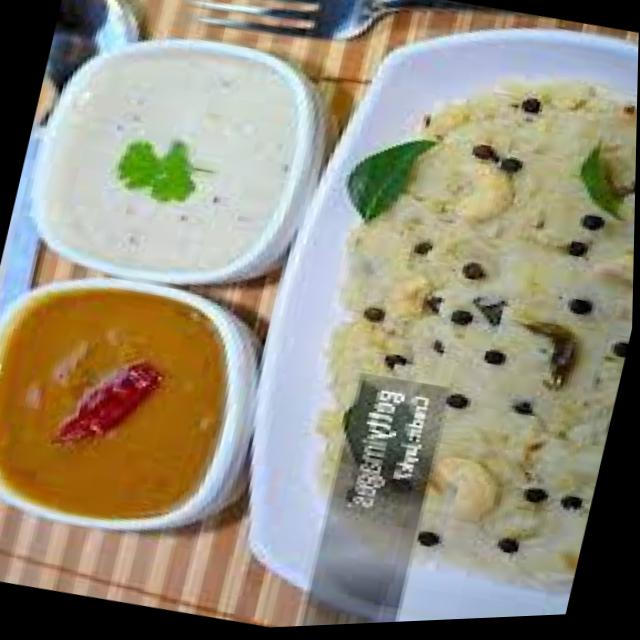PONGAL: (312, 80, 637, 583)
SAMBAR: (0, 287, 221, 517)
WHITE CHUTNEY: (43, 49, 298, 275)
